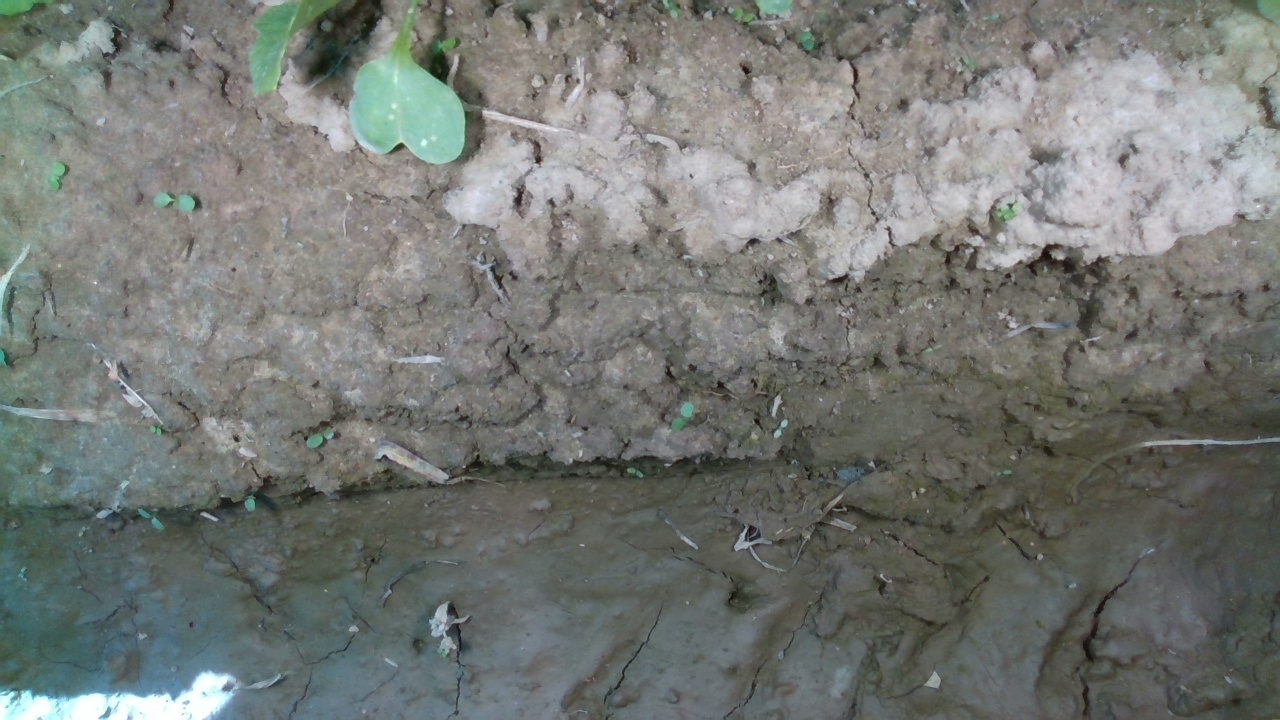weed: (152, 191, 197, 214), (669, 401, 695, 435), (303, 425, 336, 451), (136, 507, 166, 532), (425, 34, 458, 55), (46, 161, 66, 193), (625, 465, 644, 479), (148, 424, 162, 437)
